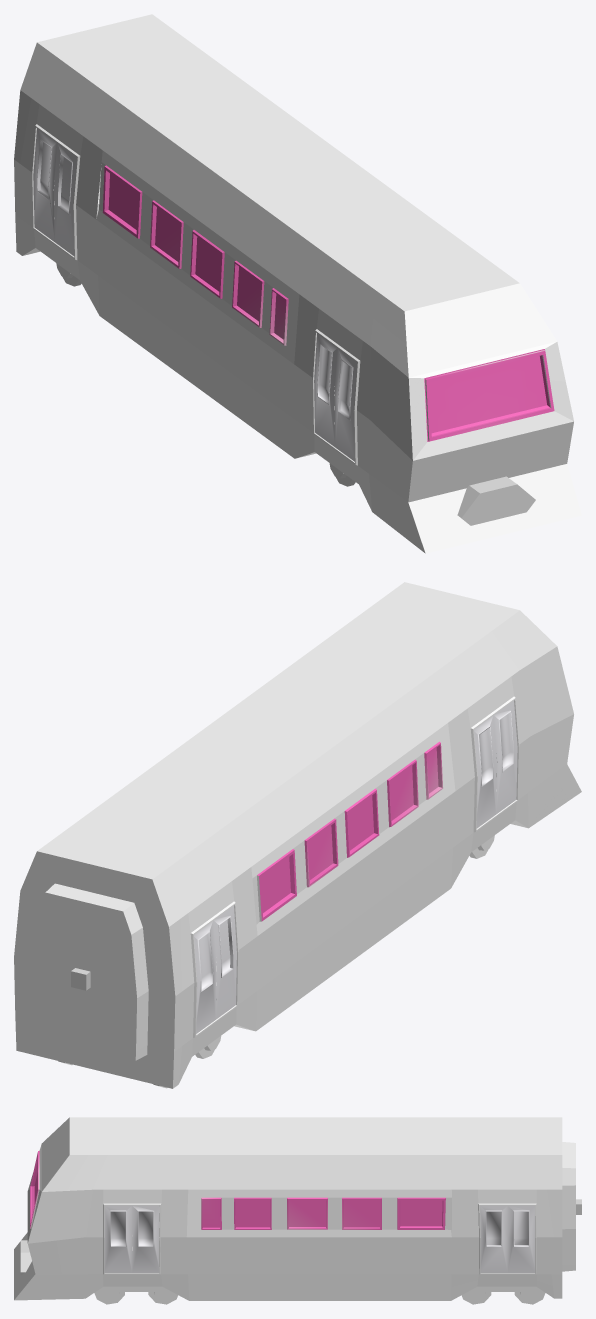
The model's file is Train.fbx.
3 renders of one model, top to bottom at view 1: azimuth 30°, elevation 25°; view 2: azimuth 150°, elevation 25°; view 3: azimuth 270°, elevation 25°, orthographic. The views are drawn at different scales.
Visible parts, largest first — view 1: Cube.005, Cylinder; view 2: Cube.005; view 3: Cube.005, Cylinder.
Part boxes in pixels (left/top/right/bottom): Cube.005: left=14, top=14, right=581, bottom=553; Cylinder: left=457, top=476, right=535, bottom=525; Cube.005: left=14, top=582, right=581, bottom=1088; Cube.005: left=14, top=1117, right=575, bottom=1304; Cylinder: left=20, top=1240, right=31, bottom=1275.
Size of the model in its own units: 543 by 712 by 2413.
